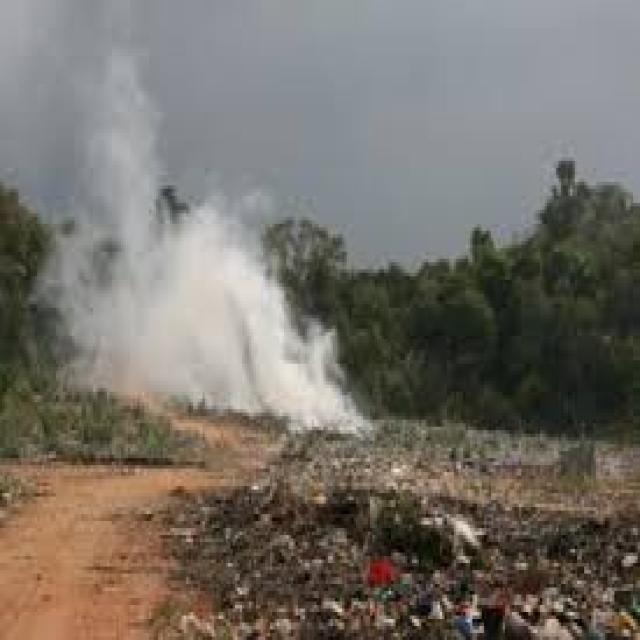Smoke: (34, 52, 359, 433)
